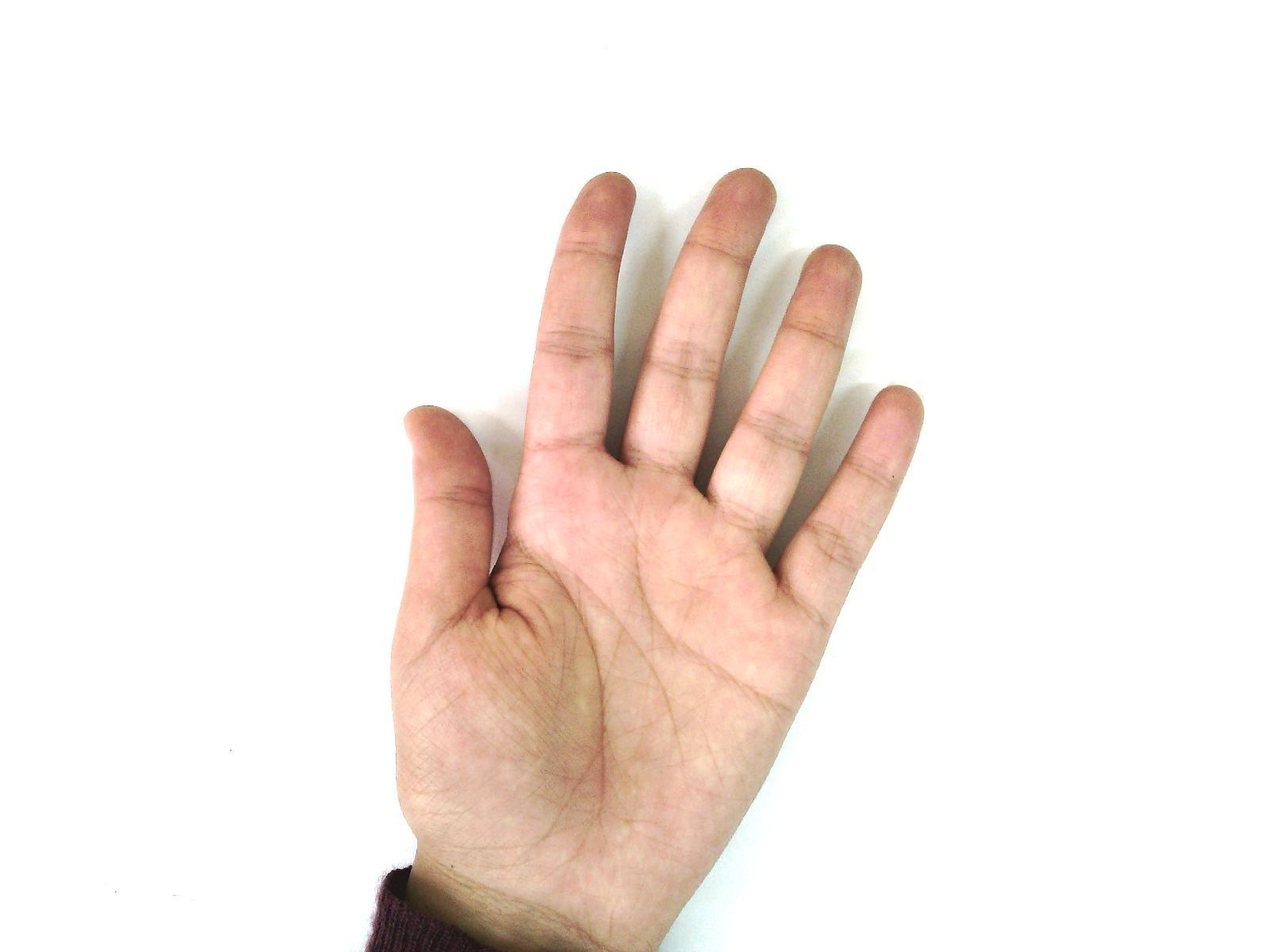open_palm: (385, 166, 927, 951)
